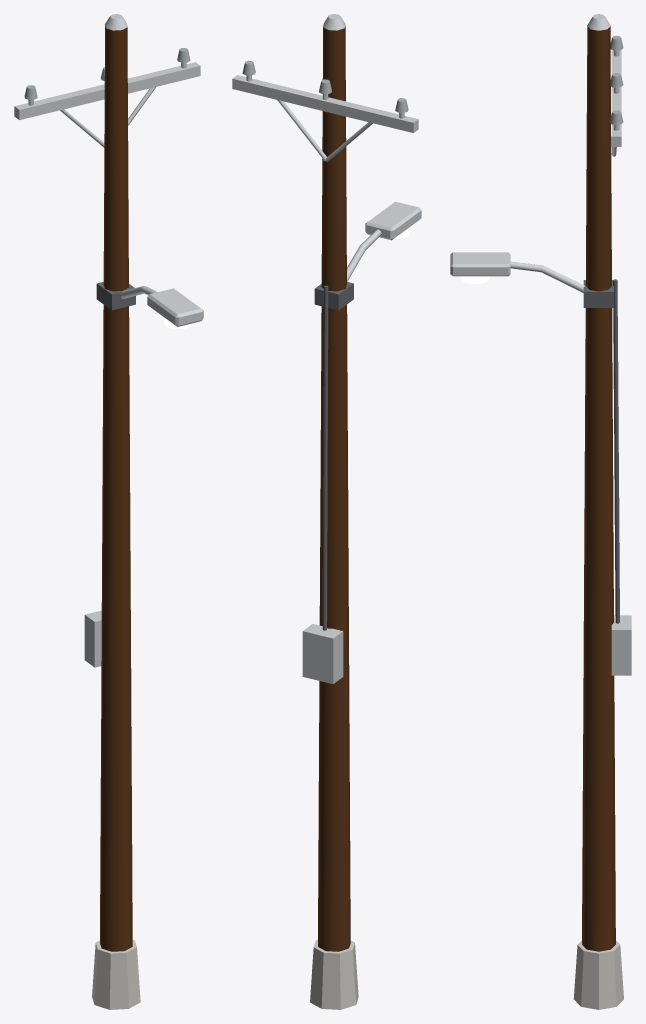
The model's file is SM_PowerPole.fbx.
3 views of the same model, side by side, from view 1: azimuth 30°, elevation 25°; view 2: azimuth 150°, elevation 25°; view 3: azimuth 270°, elevation 25° (orthographic).
Visible parts, largest first — view 1: SM_PowerPole; view 2: SM_PowerPole; view 3: SM_PowerPole.
Boxes of the visible parts, x1=… form: SM_PowerPole: x1=14, y1=14, x2=203, y2=1009; SM_PowerPole: x1=232, y1=14, x2=421, y2=1009; SM_PowerPole: x1=450, y1=14, x2=631, y2=1009.
Bounding box in the file's own units: 166 × 861 × 144.
